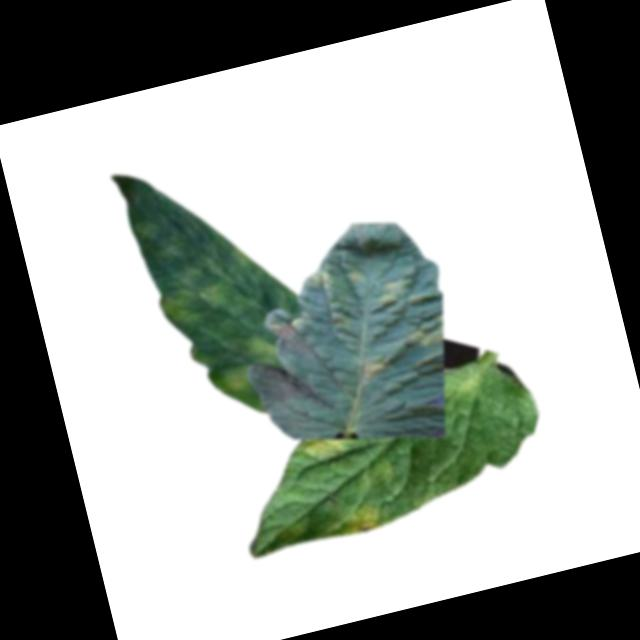Leaf_Mold: (149, 243, 267, 335), (396, 310, 456, 358), (298, 421, 350, 465), (240, 328, 284, 376), (369, 269, 419, 310), (349, 346, 395, 388), (337, 499, 381, 538), (213, 359, 251, 397), (299, 264, 339, 296), (342, 264, 368, 288)
